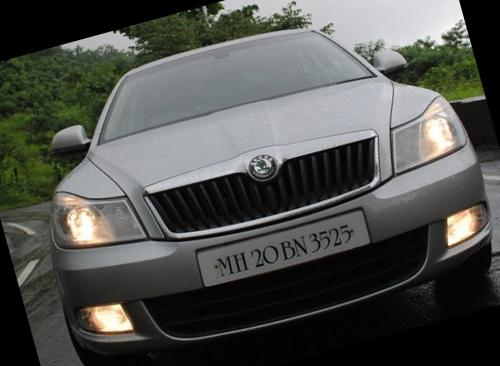plate: (185, 194, 376, 301)
